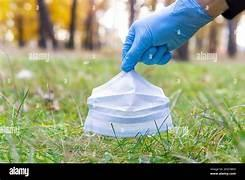Glove: (121, 0, 212, 71)
Mask: (84, 70, 171, 136)
